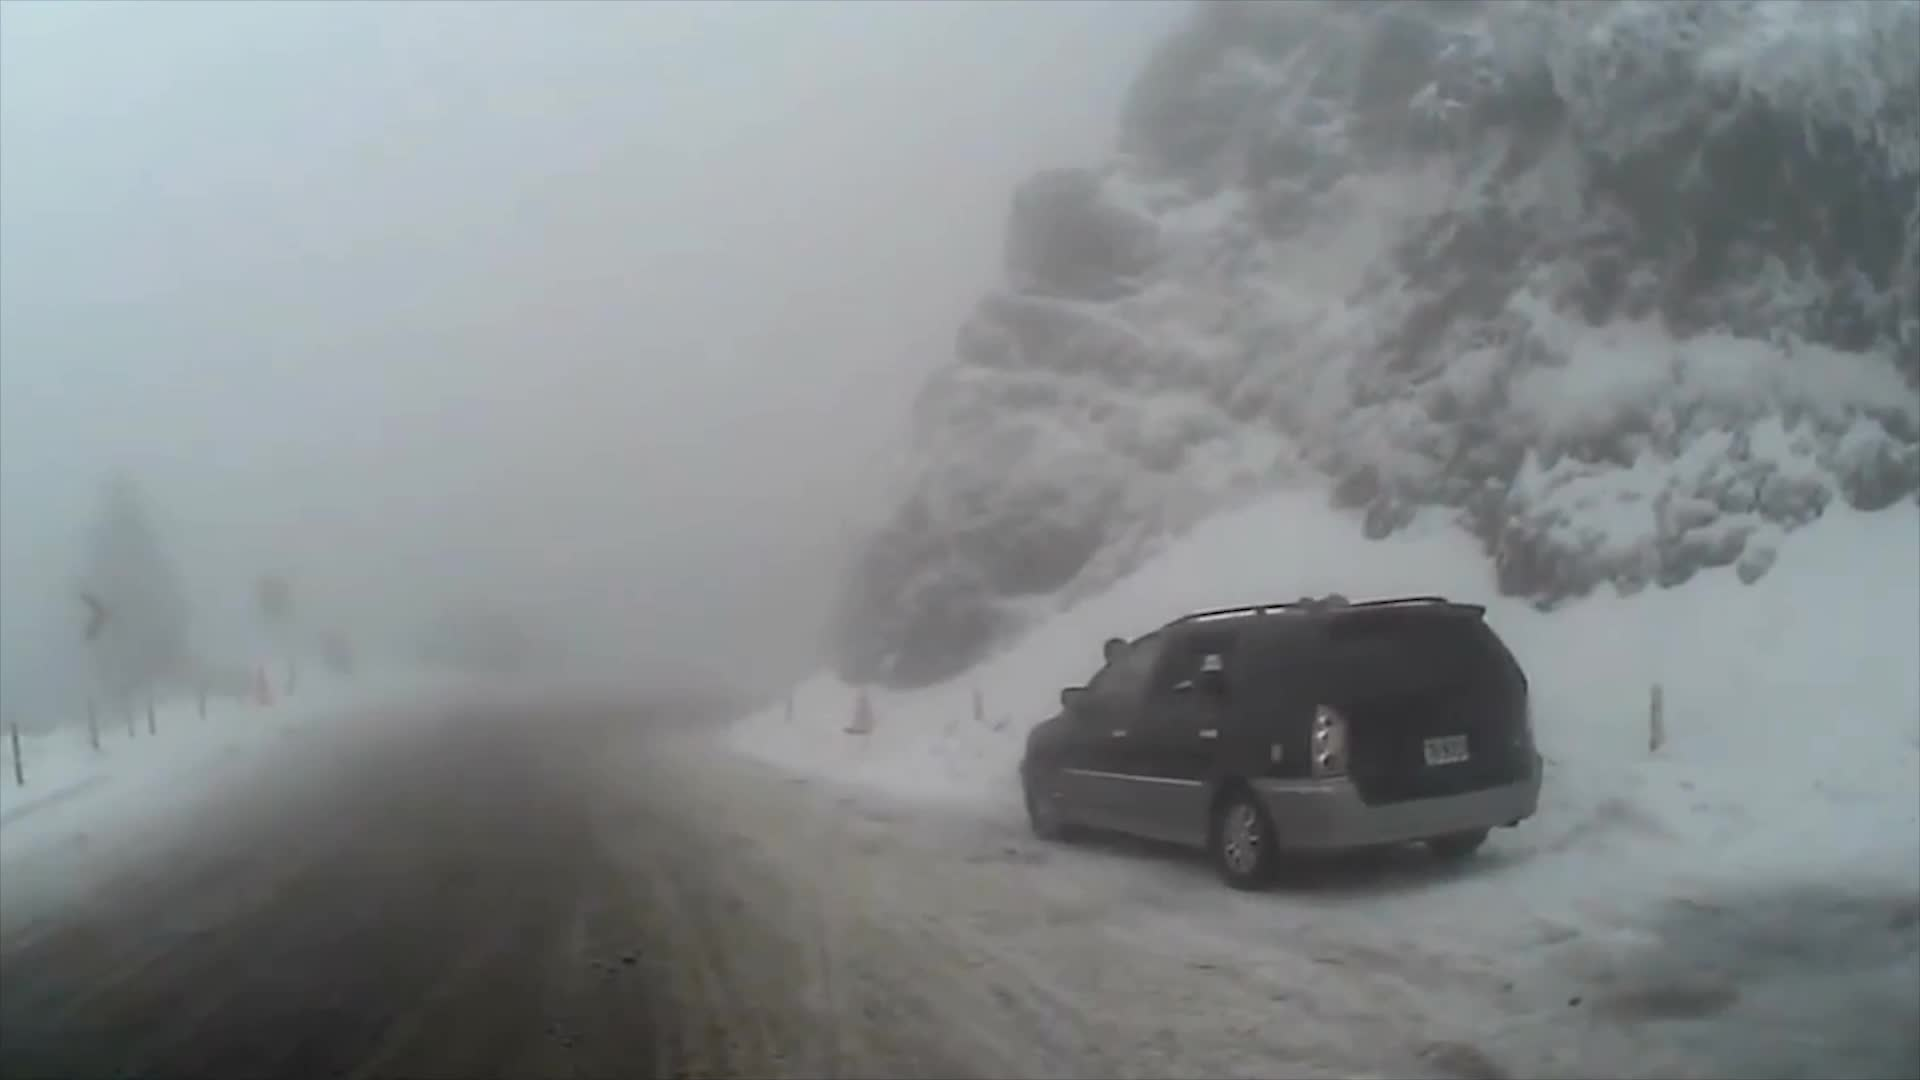vehicle: (1017, 592, 1545, 894)
